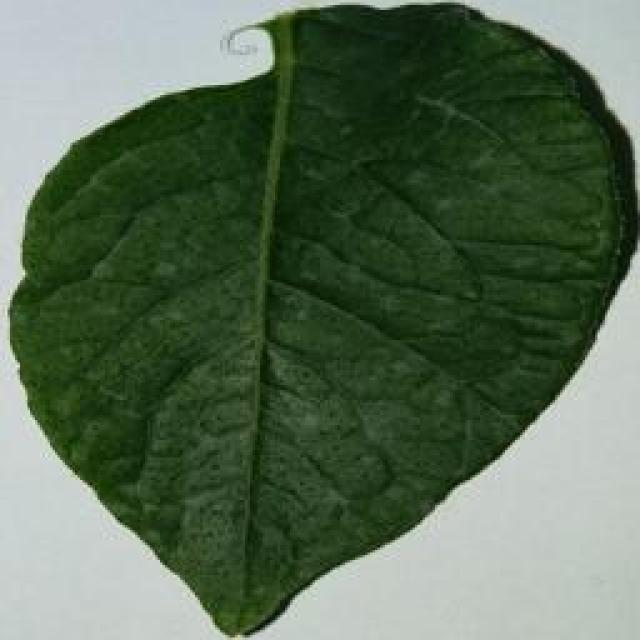Potato_Healthy: (13, 5, 623, 632)
